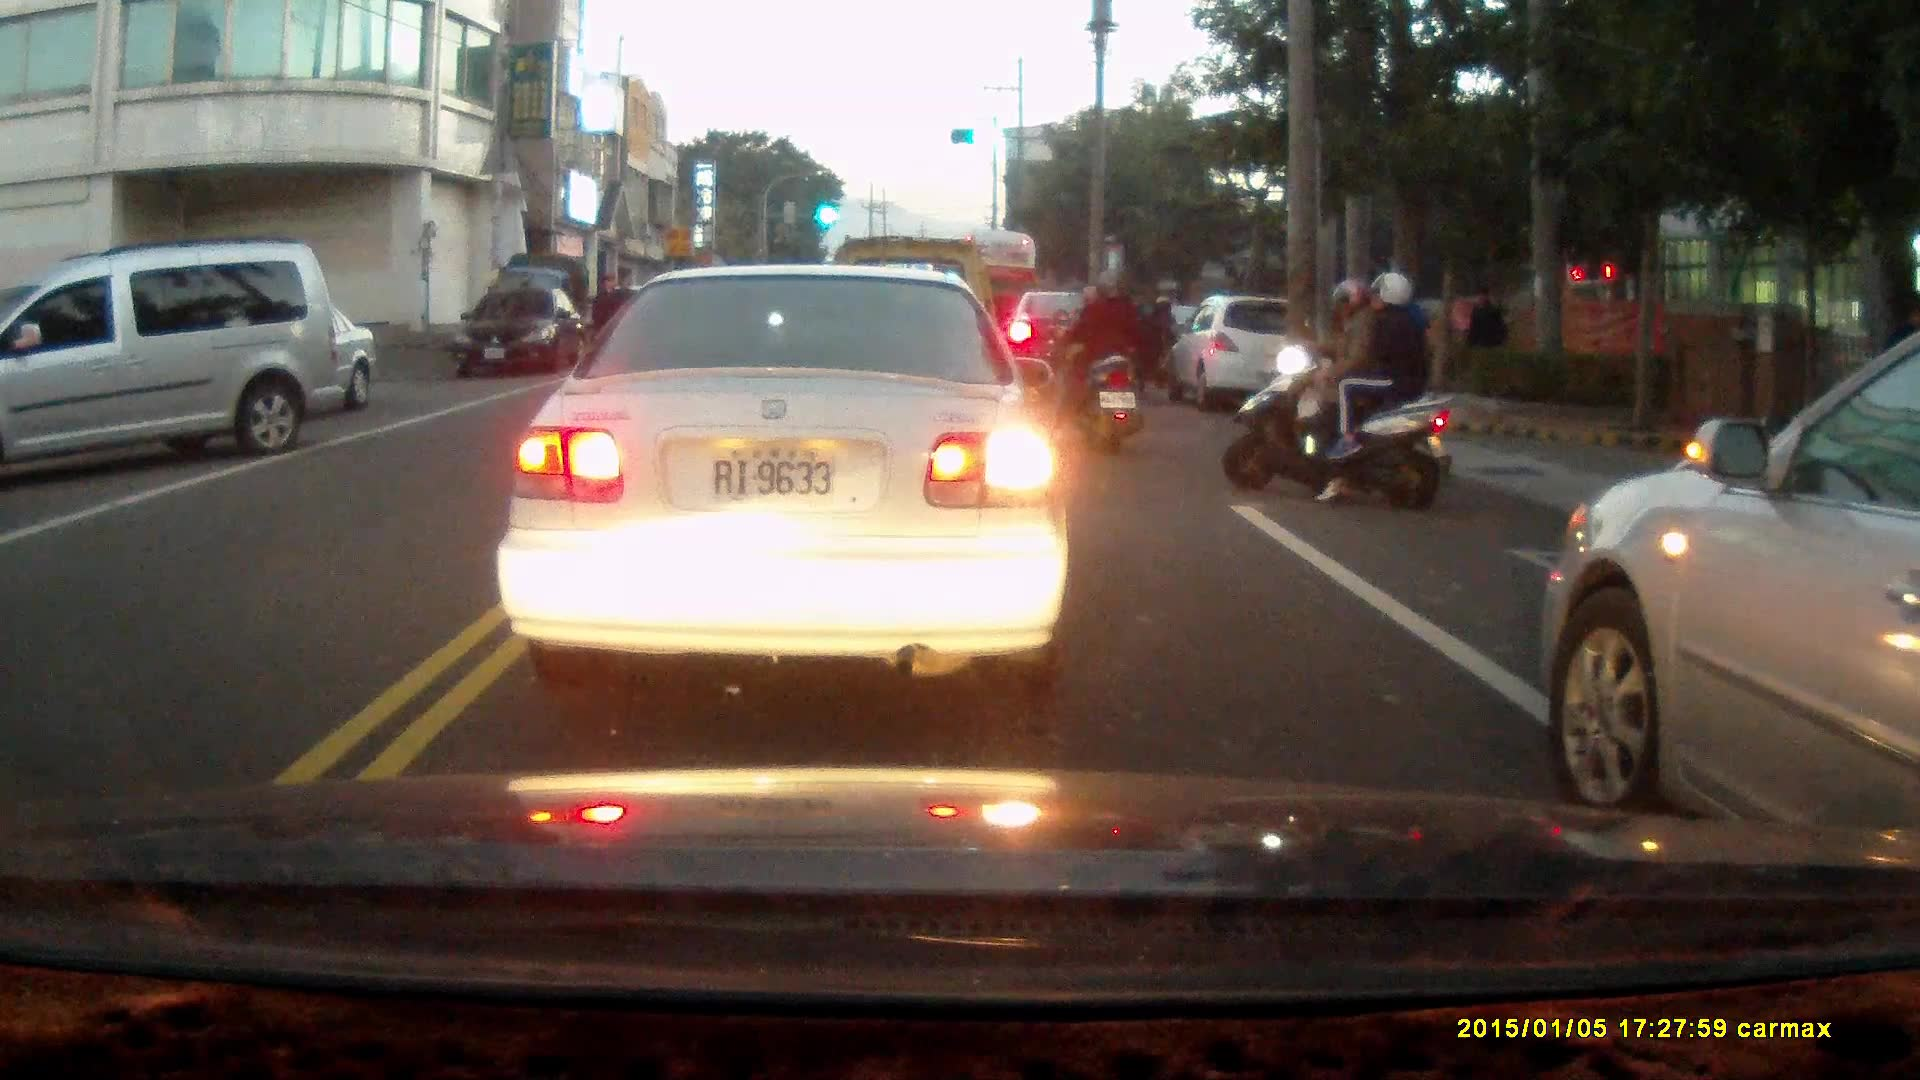pedestrian: (1461, 279, 1505, 377), (589, 274, 623, 359)
rider: (1217, 271, 1451, 513), (1051, 267, 1141, 454), (1142, 295, 1176, 385)
vehicle: (516, 263, 1063, 663), (1540, 317, 1918, 851), (1, 243, 357, 481), (1161, 294, 1329, 408), (1002, 287, 1139, 398), (458, 284, 586, 378)
